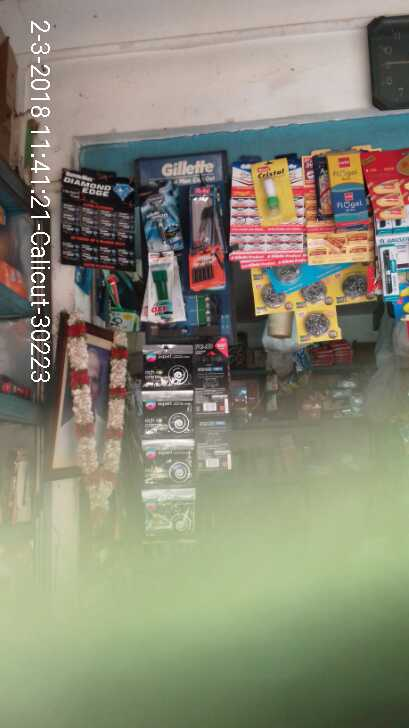gillette: (143, 190, 181, 249)
